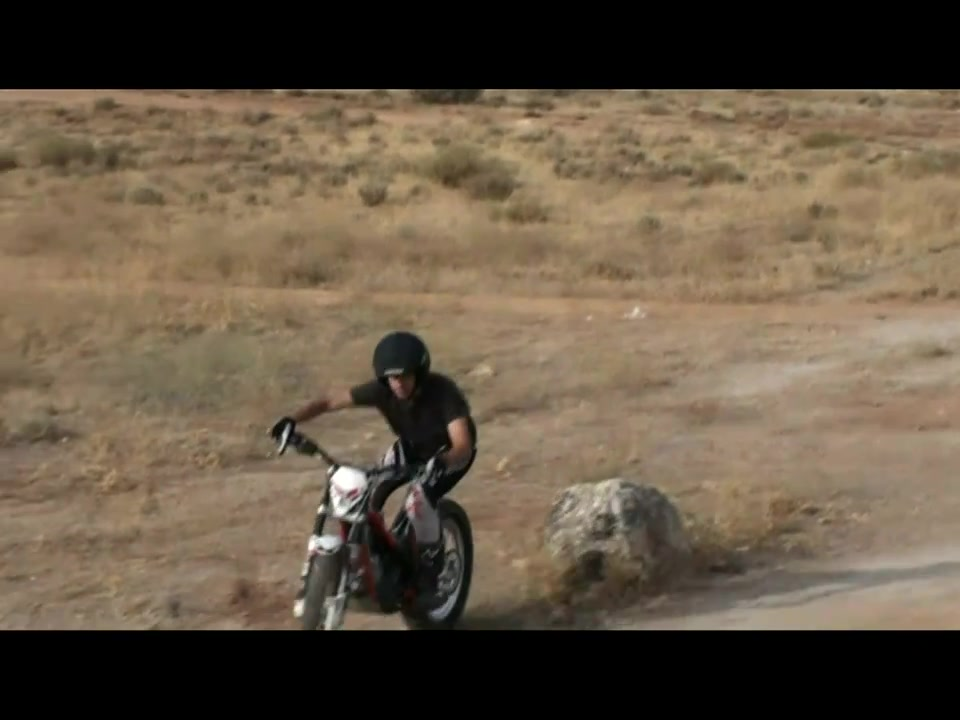motorbike: (269, 417, 480, 630)
